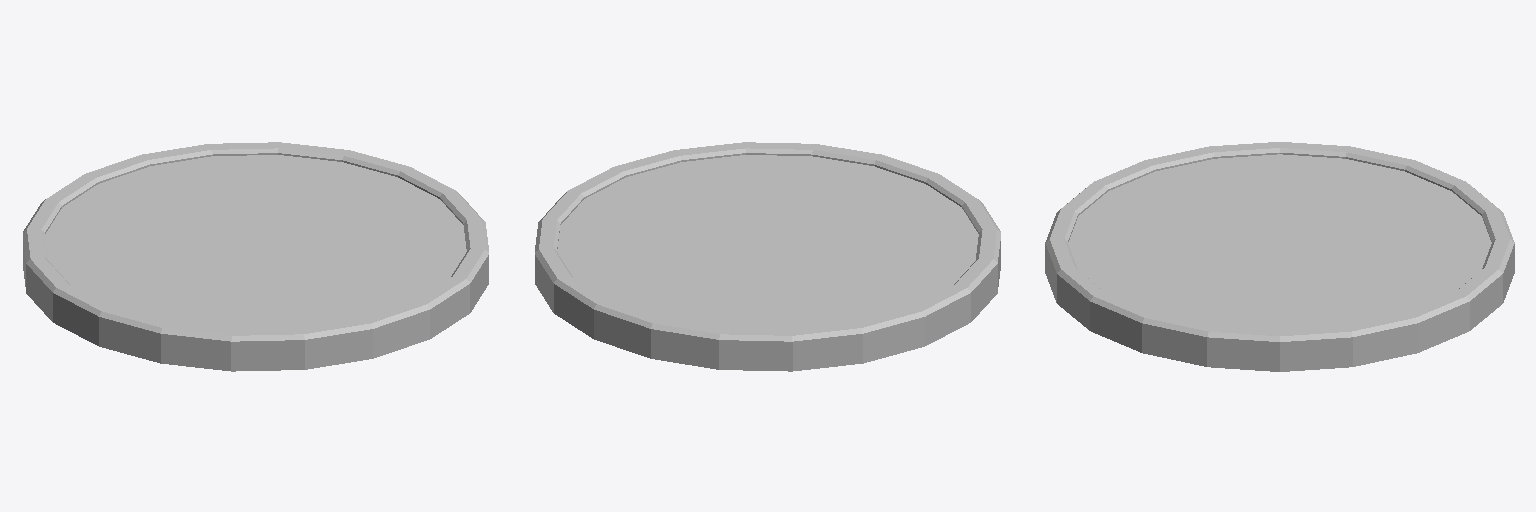
File: Dirt.obj
The picture shows the model from 3 angles: view 1: azimuth 30°, elevation 25°; view 2: azimuth 150°, elevation 25°; view 3: azimuth 270°, elevation 25°; orthographic projection.
Parts seen in each view (by area): view 1: pCylinder4, pCylinder5; view 2: pCylinder4, pCylinder5; view 3: pCylinder4, pCylinder5.
Part boxes in pixels (x1,y1,x2,y2): pCylinder4: (45,155,466,329); pCylinder5: (23,142,488,371); pCylinder4: (557,155,978,329); pCylinder5: (535,142,1000,371); pCylinder4: (1068,154,1491,329); pCylinder5: (1045,142,1514,371).
Bounding box in the file's own units: 0.5828 × 0.0464 × 0.5828.